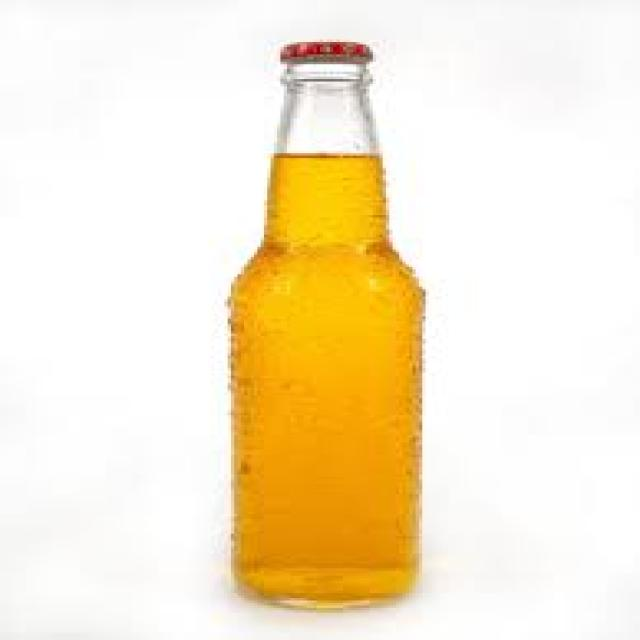Anorganik: (221, 57, 426, 610), (274, 42, 369, 57)
